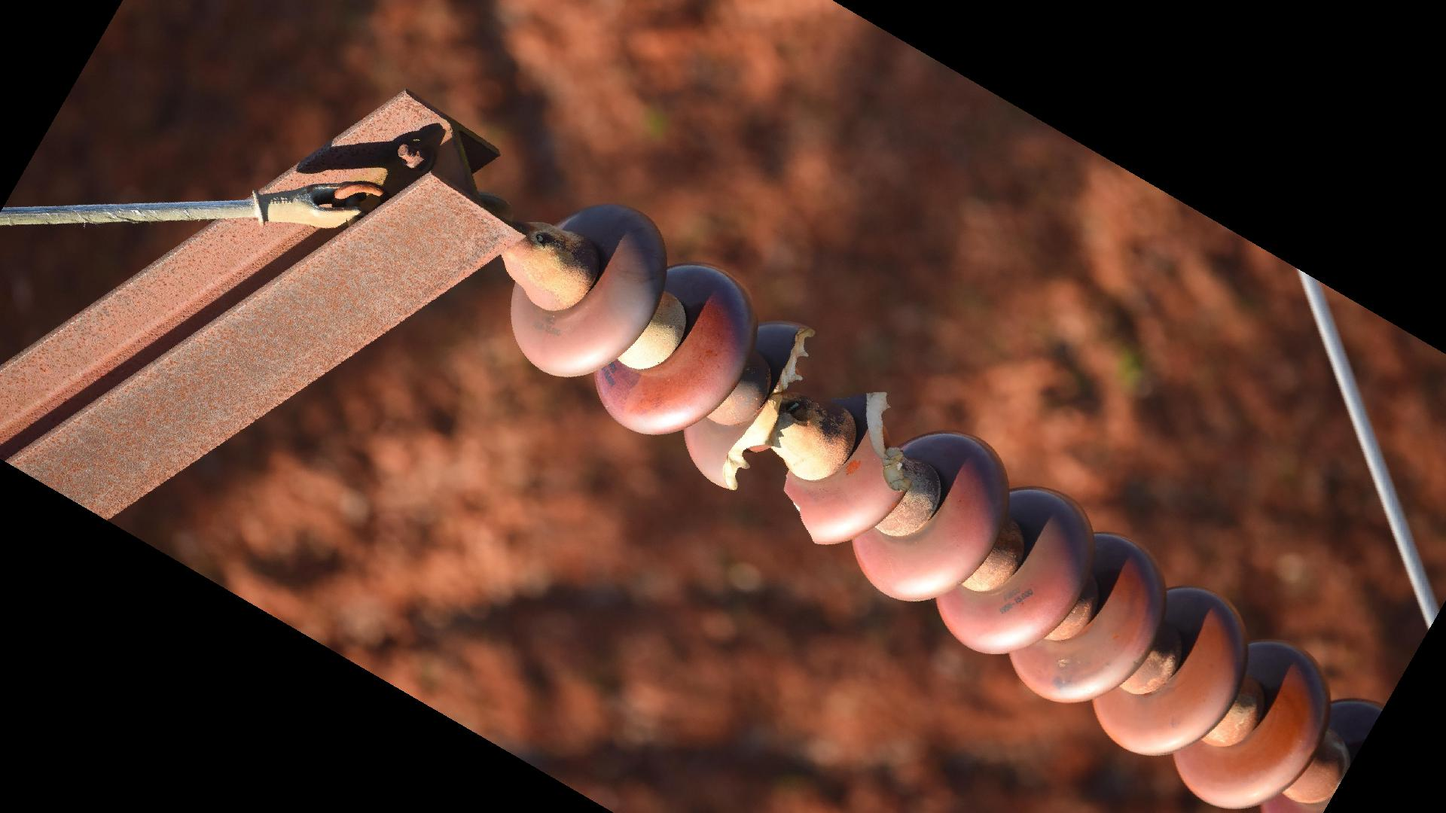insulator: (505, 198, 1390, 813)
insulator_breakage: (714, 318, 822, 498), (856, 385, 916, 510), (777, 464, 828, 553)
